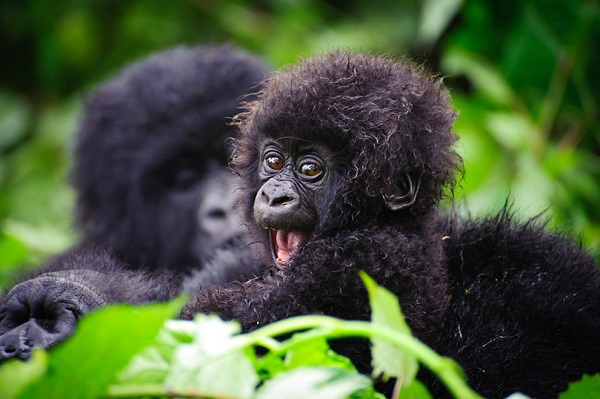Goriila: (207, 41, 493, 399)
